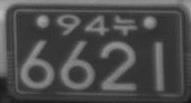1: (143, 41, 176, 92)
2: (100, 40, 137, 91)
4: (84, 13, 110, 36)
6: (19, 39, 55, 90), (60, 40, 96, 90)
9: (56, 13, 81, 36)
누: (112, 13, 138, 36)
